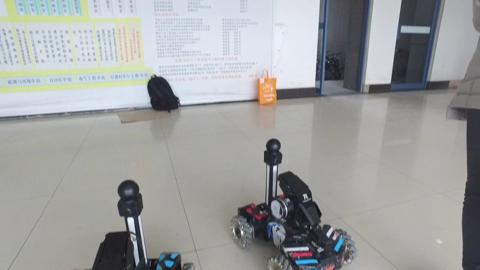chariot: (227, 132, 365, 270)
